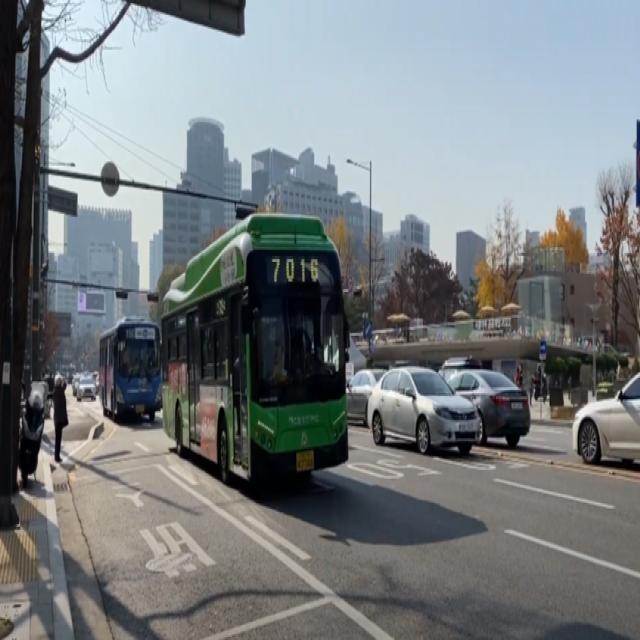bus-number: (270, 256, 320, 284), (126, 328, 135, 339)
